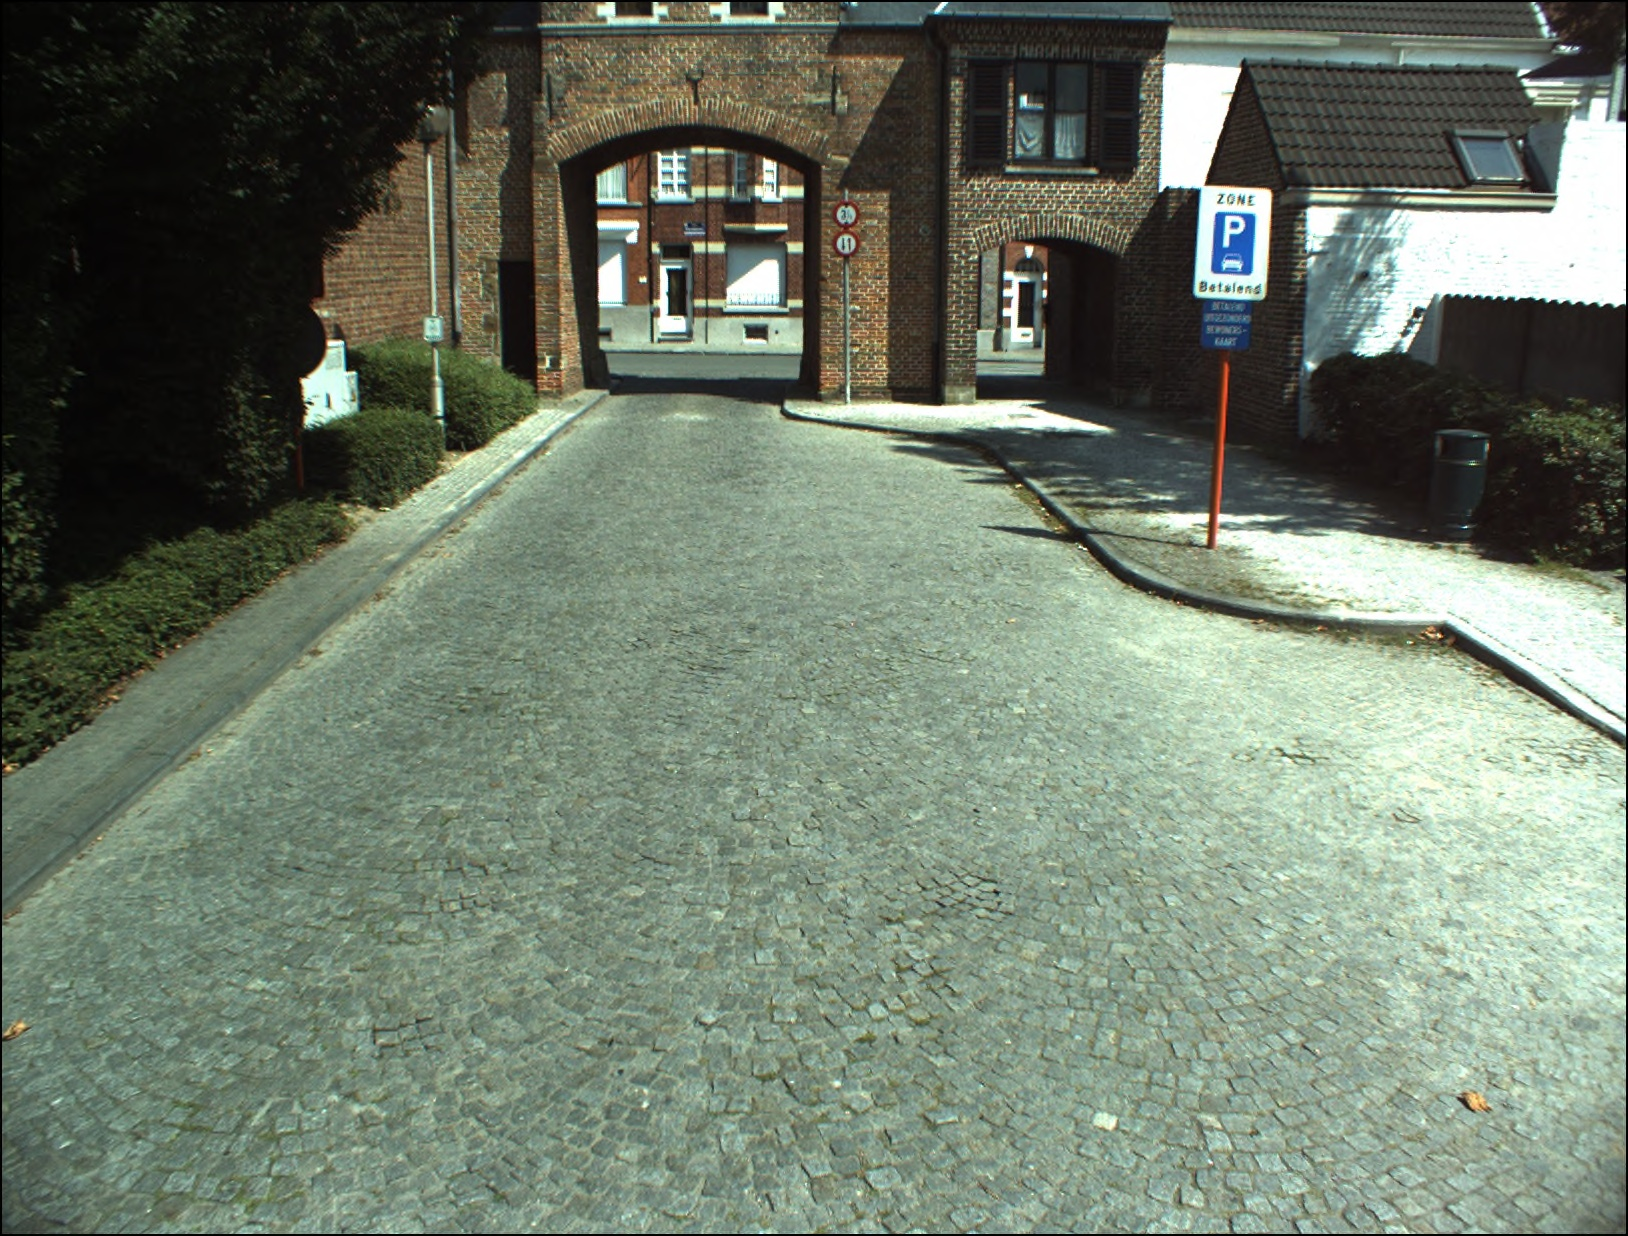parking: (1213, 212, 1255, 273)
roadnarrow2: (832, 229, 858, 254)
